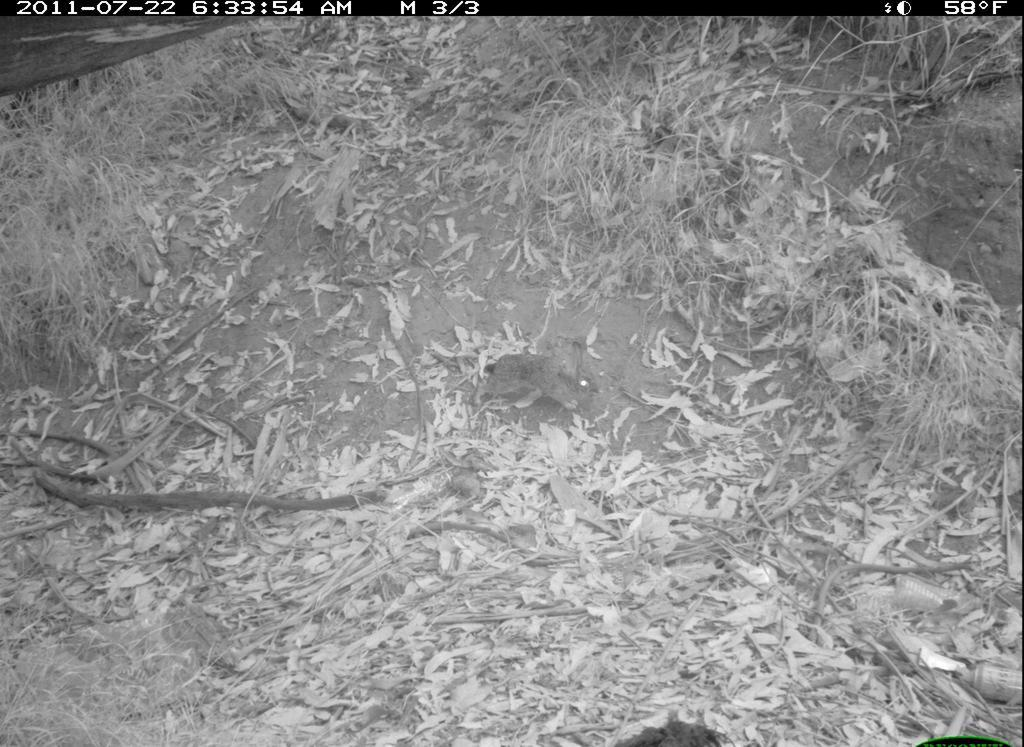rabbit: (483, 333, 606, 419)
